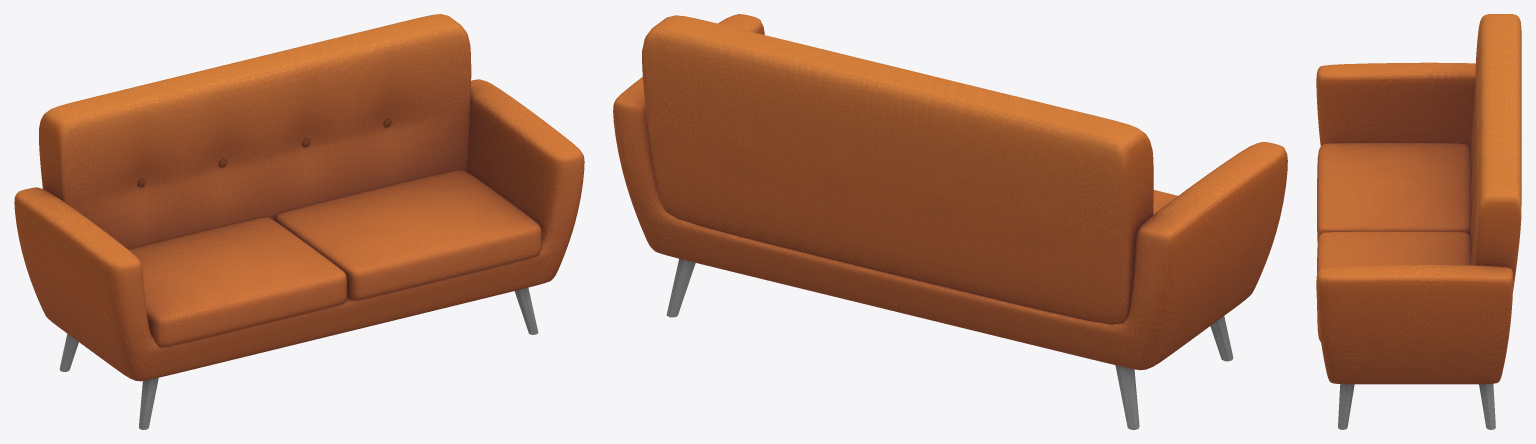
File: sofa.glb
The picture shows the model from 3 angles, left to right: view 1: azimuth 30°, elevation 25°; view 2: azimuth 150°, elevation 25°; view 3: azimuth 270°, elevation 25°; orthographic projection. The views are drawn at different scales.
Visible parts, largest first — view 1: Sofa_Sofa_0; view 2: Sofa_Sofa_0; view 3: Sofa_Sofa_0.
Part boxes in pixels (left/top/right/bottom): Sofa_Sofa_0: left=14, top=14, right=584, bottom=429; Sofa_Sofa_0: left=613, top=14, right=1287, bottom=429; Sofa_Sofa_0: left=1316, top=14, right=1521, bottom=429.
Size of the model in its own units: 2.47 by 1.26 by 0.984.
1 material, 1 textured.
